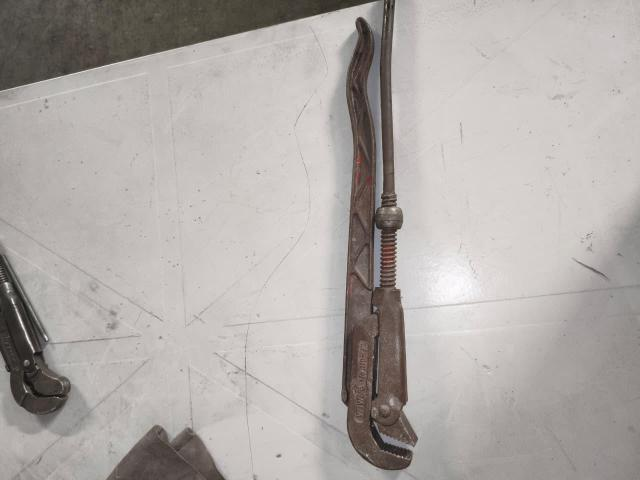Metal: (339, 0, 421, 469), (2, 242, 72, 417)
